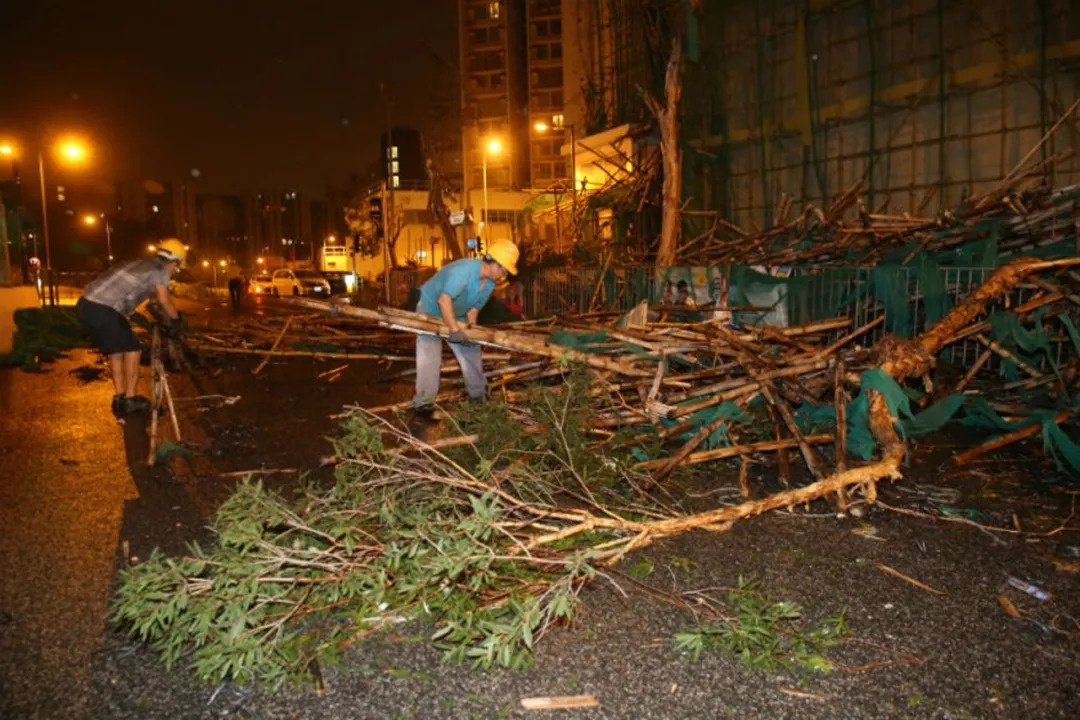yellow: (483, 238, 519, 280), (156, 237, 187, 271)
